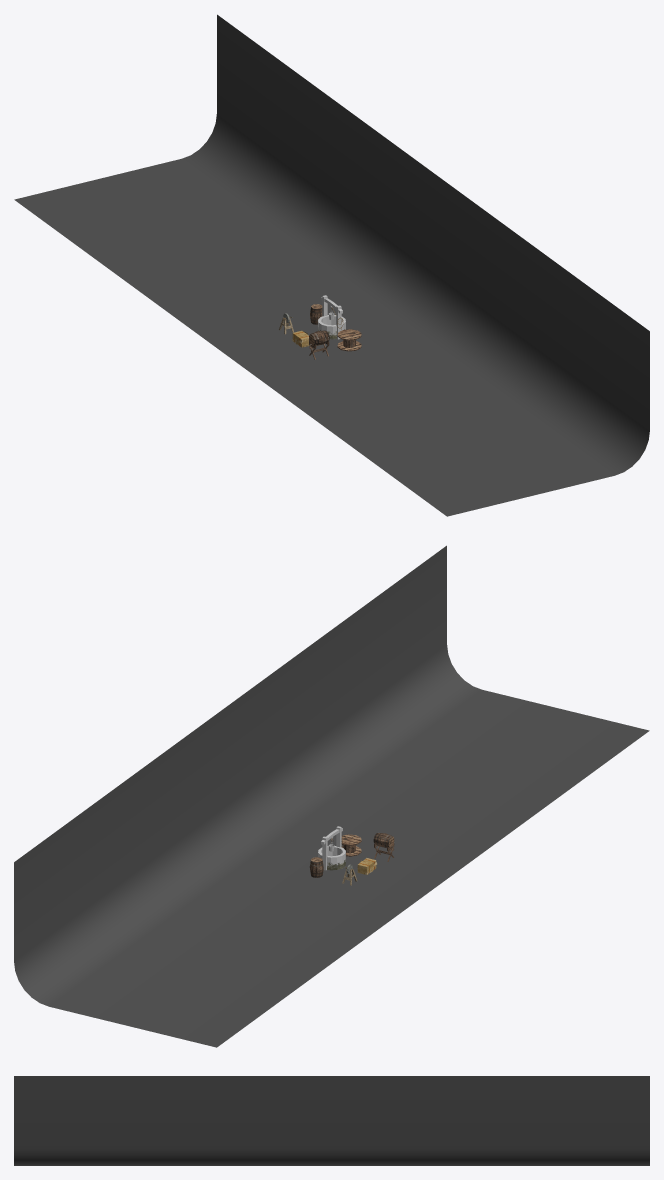
Rendered from psxPropcollection.fbx.
The picture shows the model from 3 angles, top to bottom: view 1: azimuth 30°, elevation 25°; view 2: azimuth 150°, elevation 25°; view 3: azimuth 270°, elevation 25°; orthographic projection. The views are drawn at different scales.
Parts seen in each view (by area): view 1: Plano.003; view 2: Plano.003, wellRetroStyle; view 3: Plano.003.
Boxes of the visible parts, x1=… form: Plano.003: x1=14, y1=14, x2=649, y2=516; Plano.003: x1=14, y1=545, x2=649, y2=1047; wellRetroStyle: x1=318, y1=826, x2=345, y2=870; Plano.003: x1=14, y1=1076, x2=649, y2=1165.
Size of the model in its own units: 1495 by 960 by 5527.
